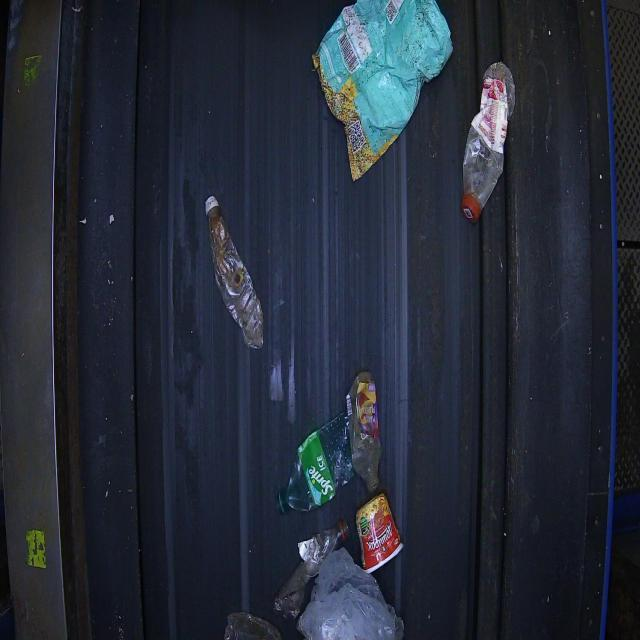cups: (354, 490, 403, 573)
other-trash: (459, 60, 516, 222)
plastic-waste: (310, 0, 453, 182)
